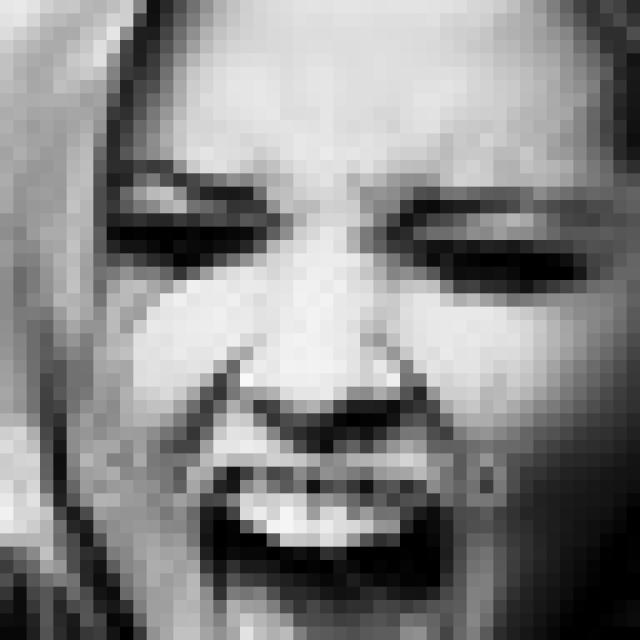angry: (111, 146, 615, 640)
